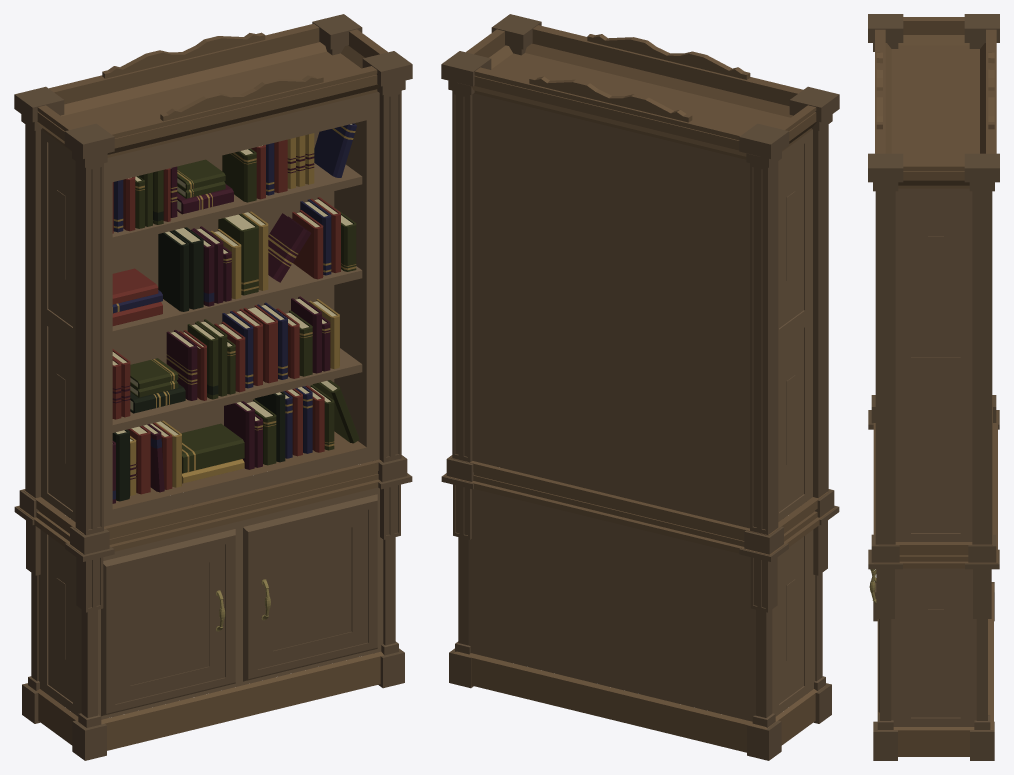
File: bookshelf.glb
3 views of the same model, side by side, from view 1: azimuth 30°, elevation 25°; view 2: azimuth 150°, elevation 25°; view 3: azimuth 270°, elevation 25° (orthographic). The views are drawn at different scales.
Parts seen in each view (by area): view 1: bookshelf; view 2: bookshelf; view 3: bookshelf.
Part boxes in pixels (x1=…): bookshelf: x1=14, y1=14, x2=412, y2=760; bookshelf: x1=441, y1=14, x2=839, y2=760; bookshelf: x1=868, y1=14, x2=999, y2=760.
Bounding box in the file's own units: 1.04 × 1.9 × 0.3744.
